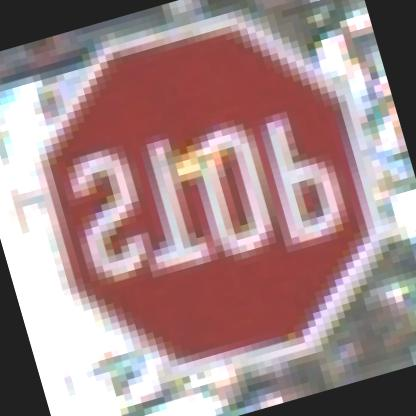stop: (2, 0, 415, 403)
